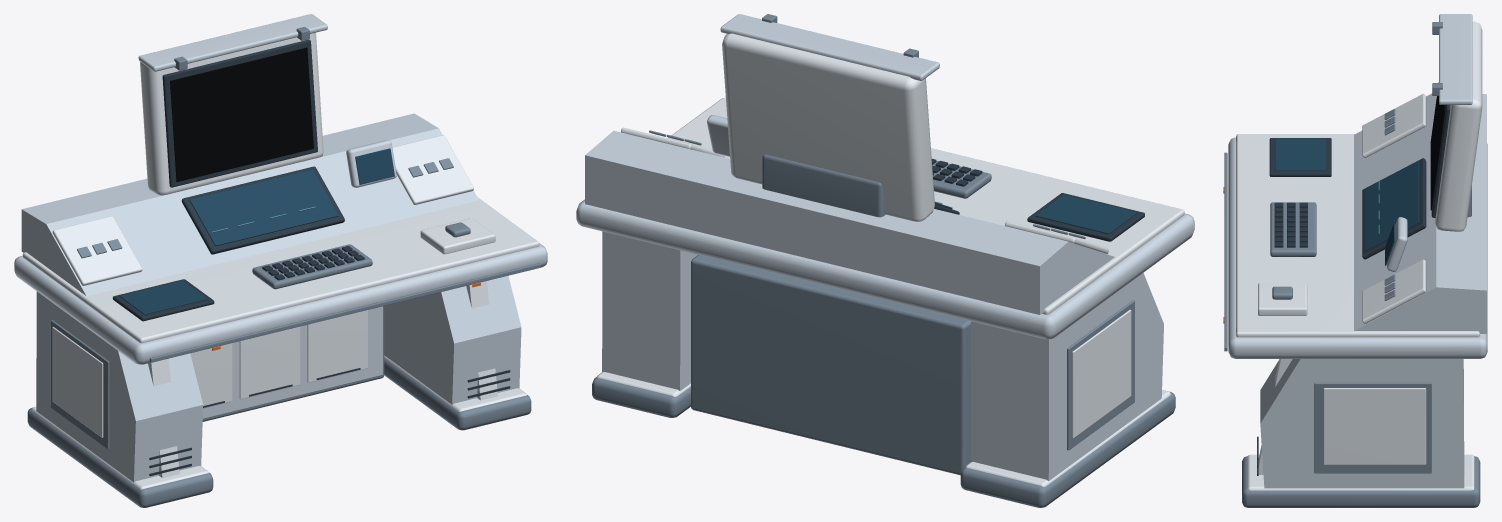
The model's file is SnowForestSciFiDesk.glb.
3 views of the same model, side by side, from view 1: azimuth 30°, elevation 25°; view 2: azimuth 150°, elevation 25°; view 3: azimuth 270°, elevation 25° (orthographic). The views are drawn at different scales.
Parts seen in each view (by area): view 1: SnowForestSciFiDesk; view 2: SnowForestSciFiDesk; view 3: SnowForestSciFiDesk.
Part boxes in pixels (x1,y1,x2,y2): SnowForestSciFiDesk: (14, 14, 547, 507); SnowForestSciFiDesk: (576, 14, 1194, 507); SnowForestSciFiDesk: (1223, 14, 1487, 507).
Size of the model in its own units: 8.1 by 6.55 by 4.38.
1 material, 1 textured.
